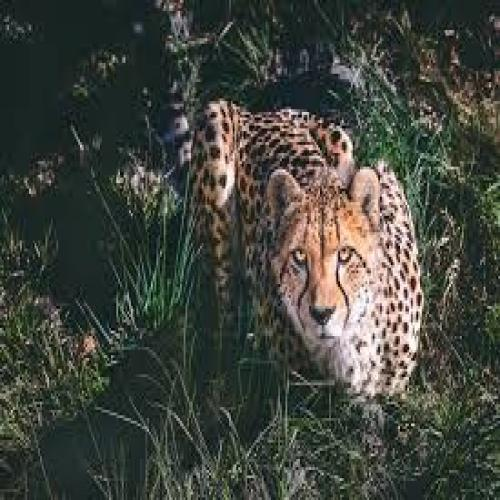cheetah-endangered: (184, 96, 428, 410)
